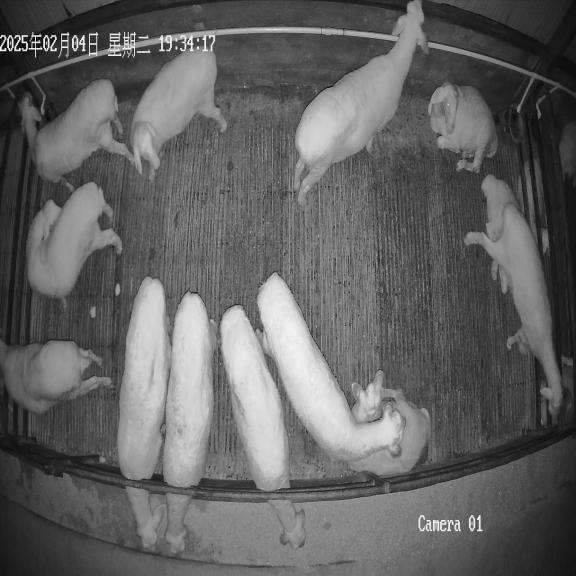eating: (220, 305, 305, 549), (117, 276, 170, 550), (163, 292, 216, 554)
lying: (342, 370, 431, 476), (0, 340, 111, 413), (428, 82, 498, 172), (481, 175, 518, 242)
stand: (255, 272, 405, 466), (294, 0, 428, 205), (464, 204, 562, 415), (18, 79, 134, 190), (131, 51, 227, 182), (26, 182, 122, 307)
